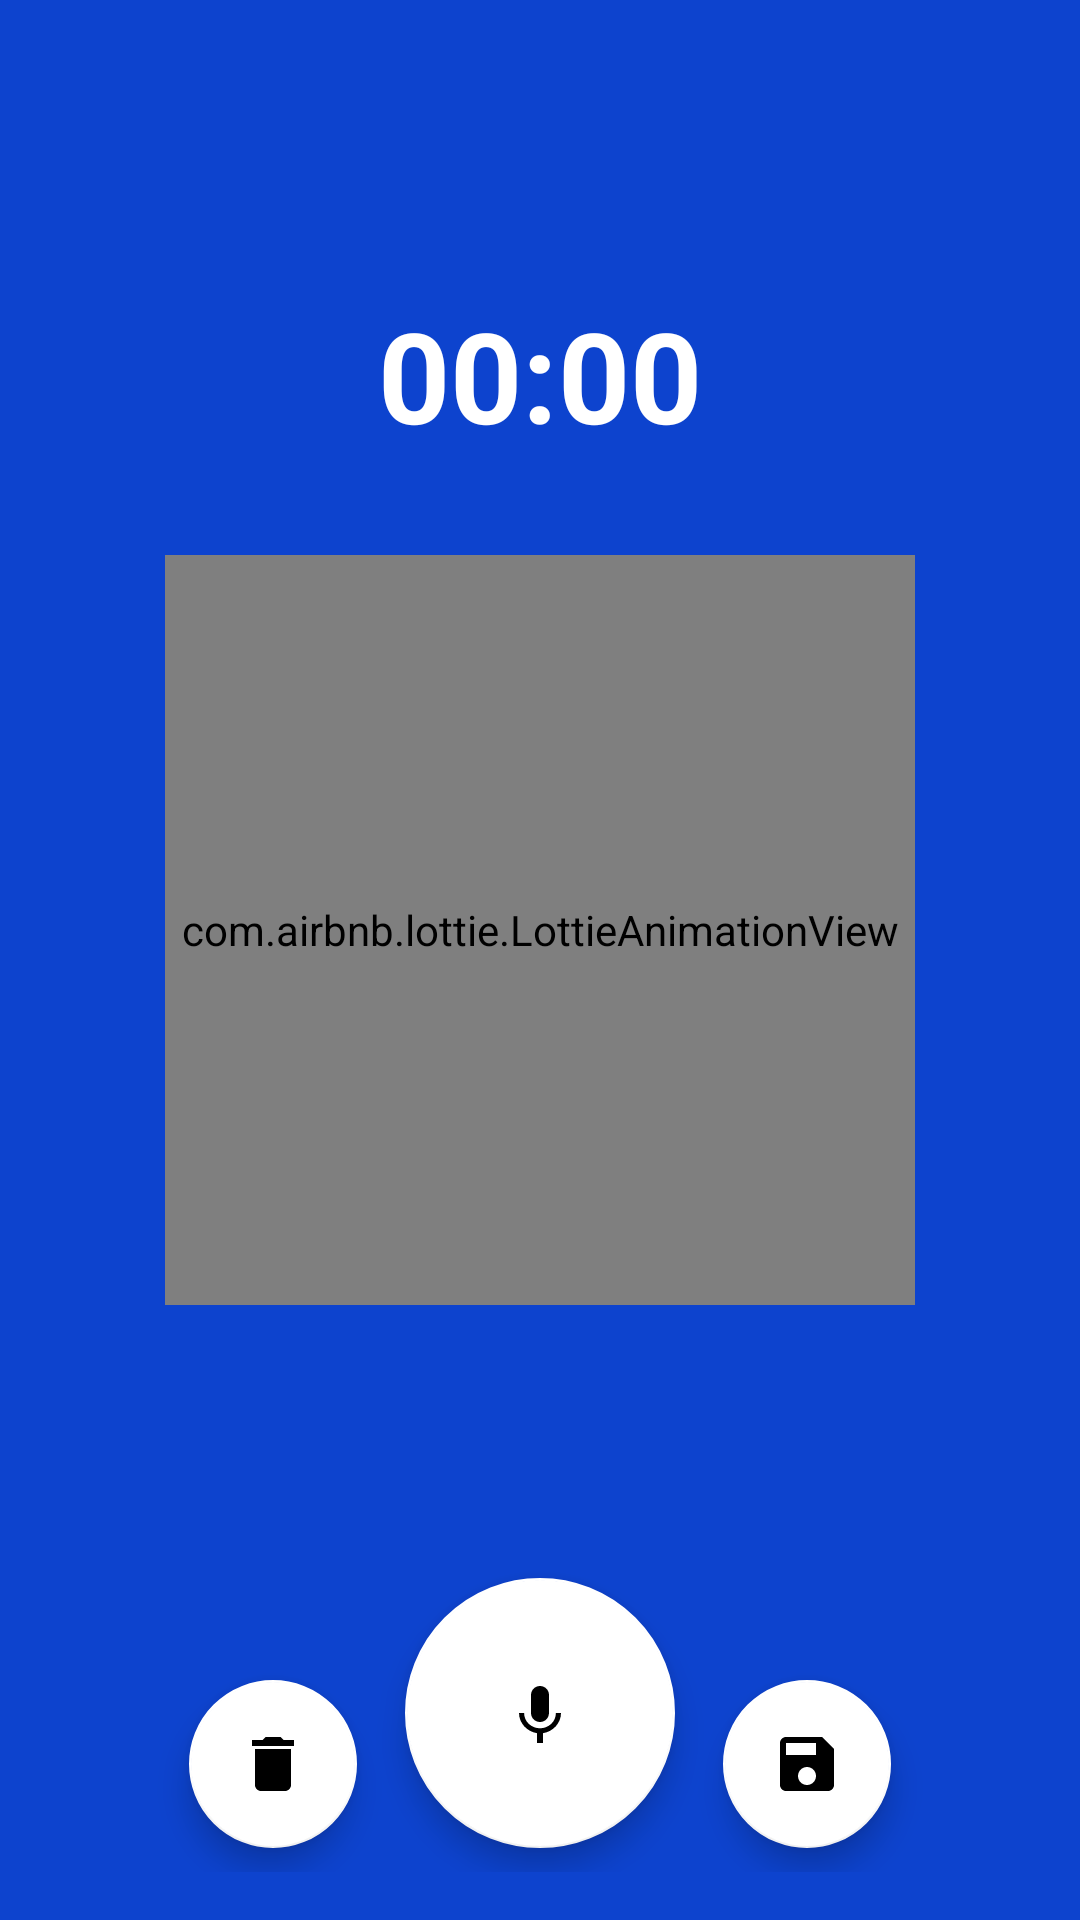

Icons on this 1080 x 1920 Android screen, each with the point to tap as (x=x, y=y):
delete: (x=273, y=1764)
microphone: (x=540, y=1713)
save: (x=807, y=1764)
